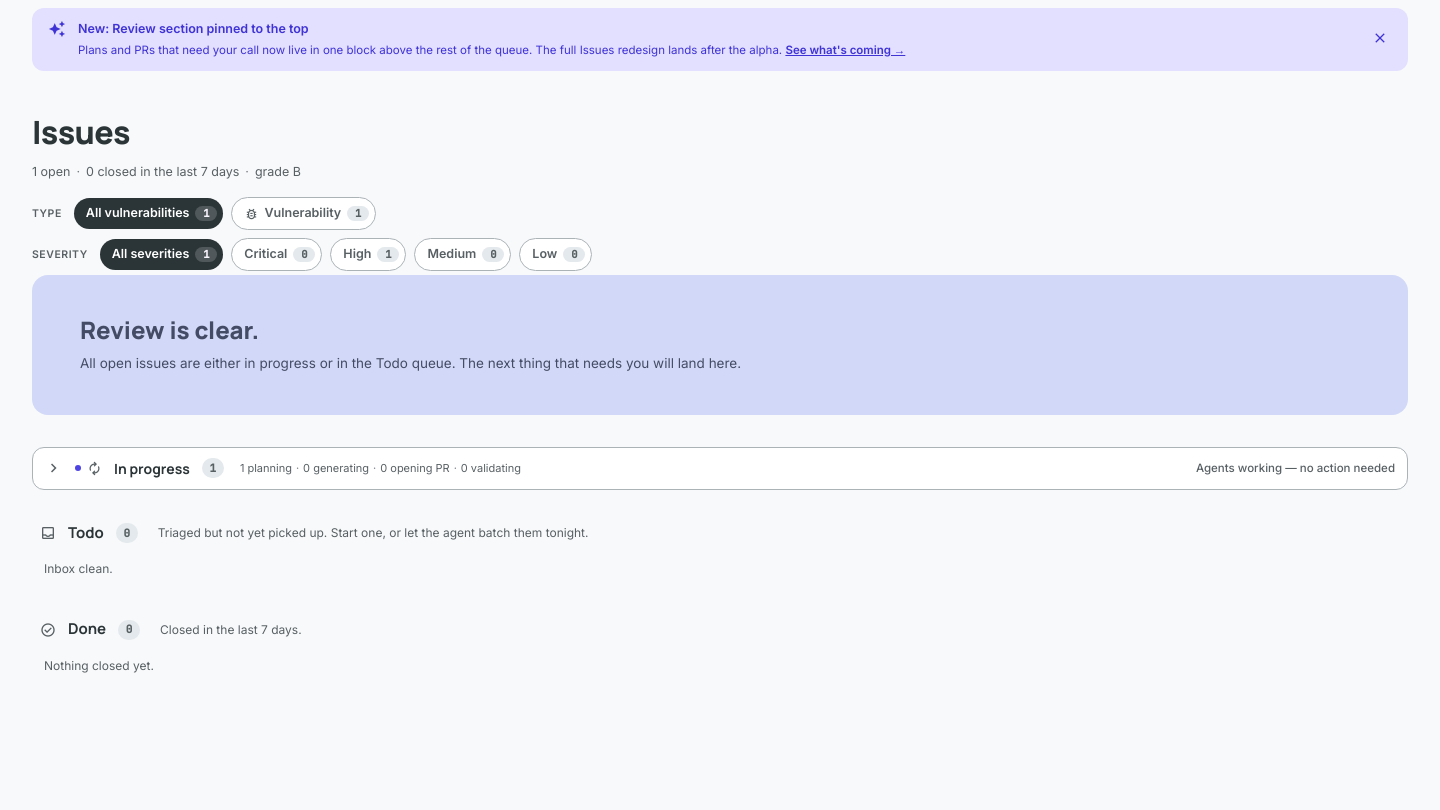
Scenario: IssuesPage › expanding In progress reveals the rows and persists in sessionStorage
Click the button that starts with "In progress".
click(152, 468)  # box [32,447,1408,490]
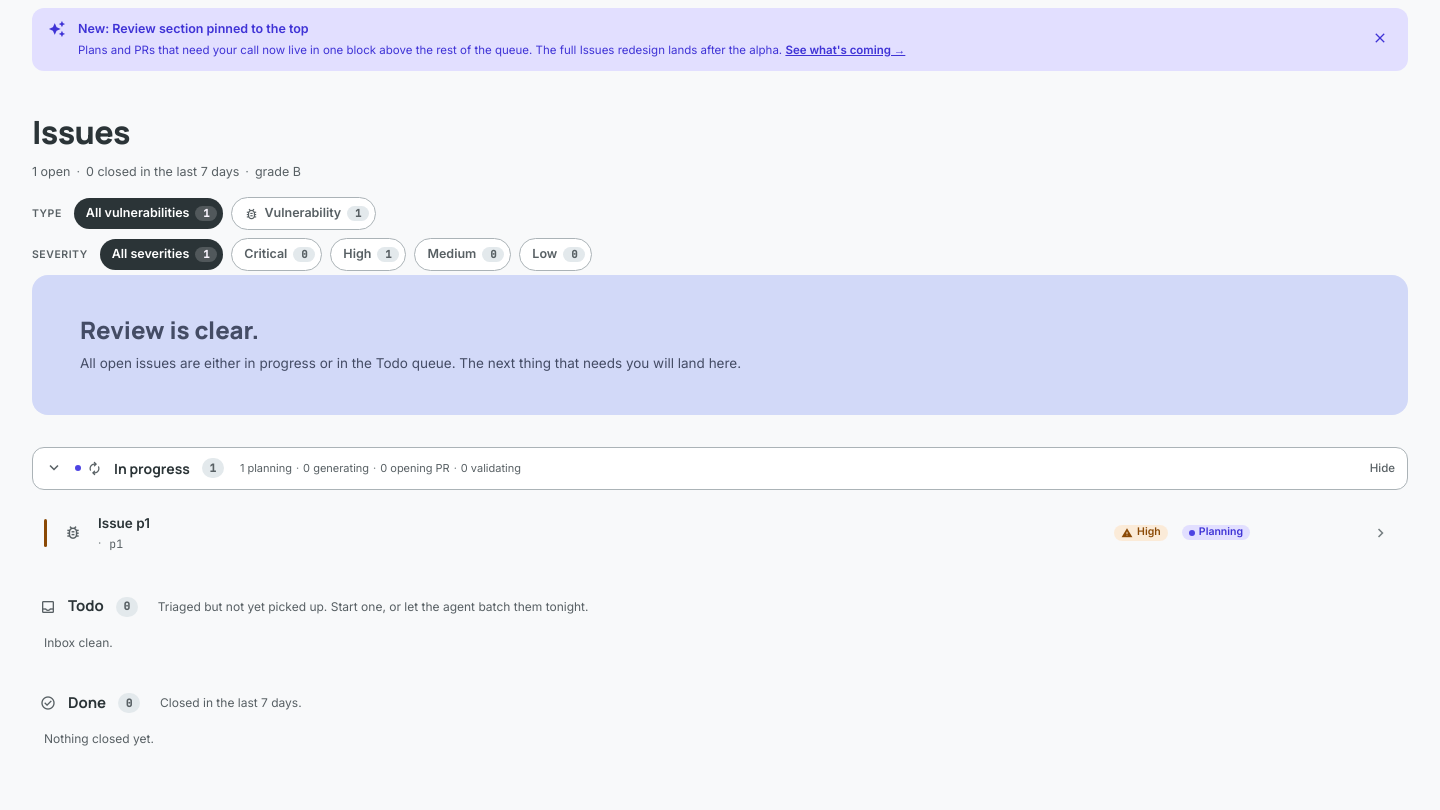
Result: the text "Issue p1" is shown at [98,513,150,533]
